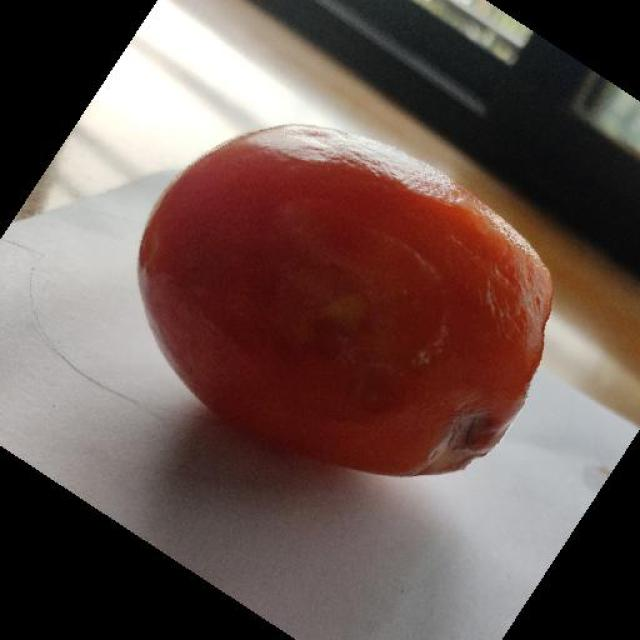Stale_tomato: (170, 130, 542, 455)
